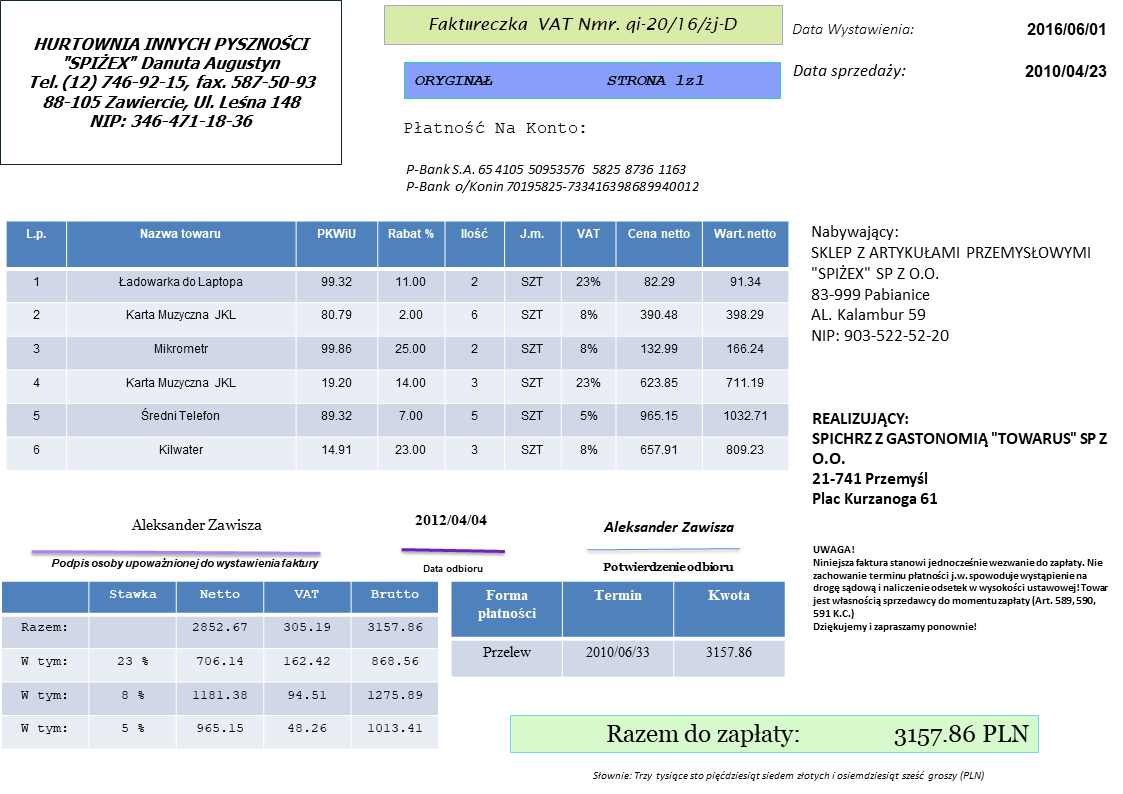Table: (4, 219, 790, 472), (1, 580, 440, 750), (450, 580, 786, 677)
TextBox: (808, 221, 1095, 345), (809, 409, 1112, 510), (25, 32, 319, 132), (810, 542, 1110, 636), (605, 720, 1033, 749), (402, 161, 701, 196), (426, 14, 738, 36), (590, 767, 987, 784), (412, 71, 708, 89), (48, 553, 319, 572), (402, 118, 587, 137), (790, 61, 913, 83), (131, 514, 264, 534), (602, 517, 736, 536), (789, 20, 915, 39), (601, 559, 734, 575), (1023, 60, 1109, 82), (1025, 19, 1107, 39), (413, 512, 488, 528), (420, 561, 485, 574)
